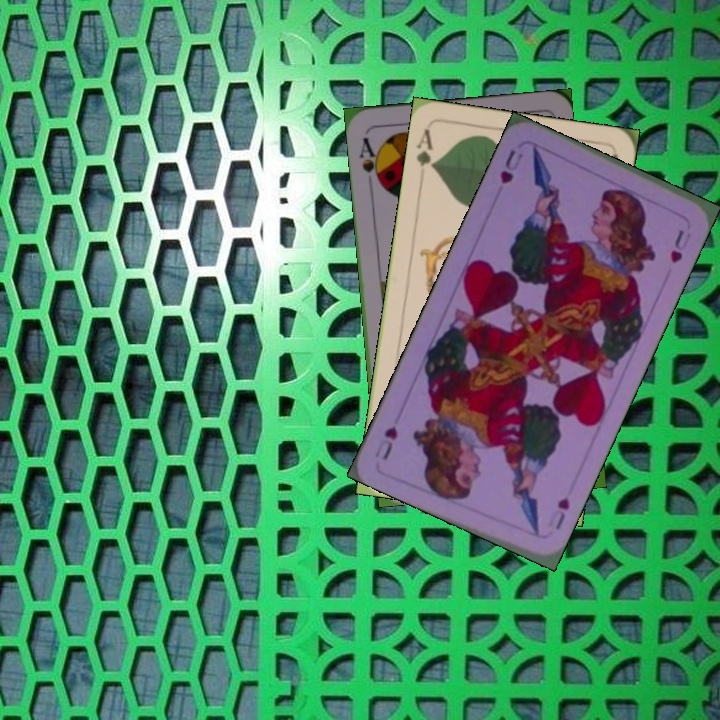GA: (411, 124, 439, 172)
HU: (495, 145, 526, 187), (543, 493, 572, 533)
SA: (355, 133, 384, 189)
